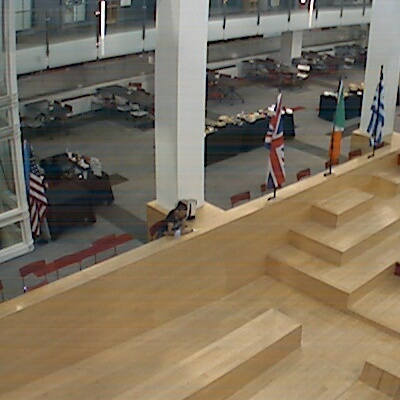head: (171, 199, 188, 221)
